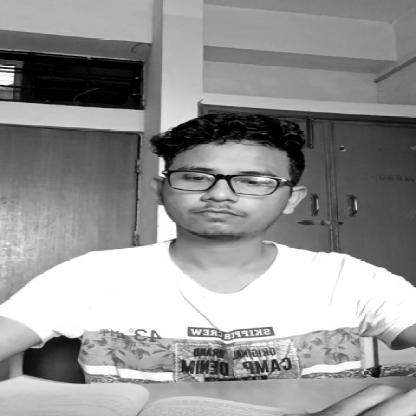Normal: (147, 108, 317, 237)
